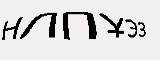Ұ: (98, 8, 126, 44)
